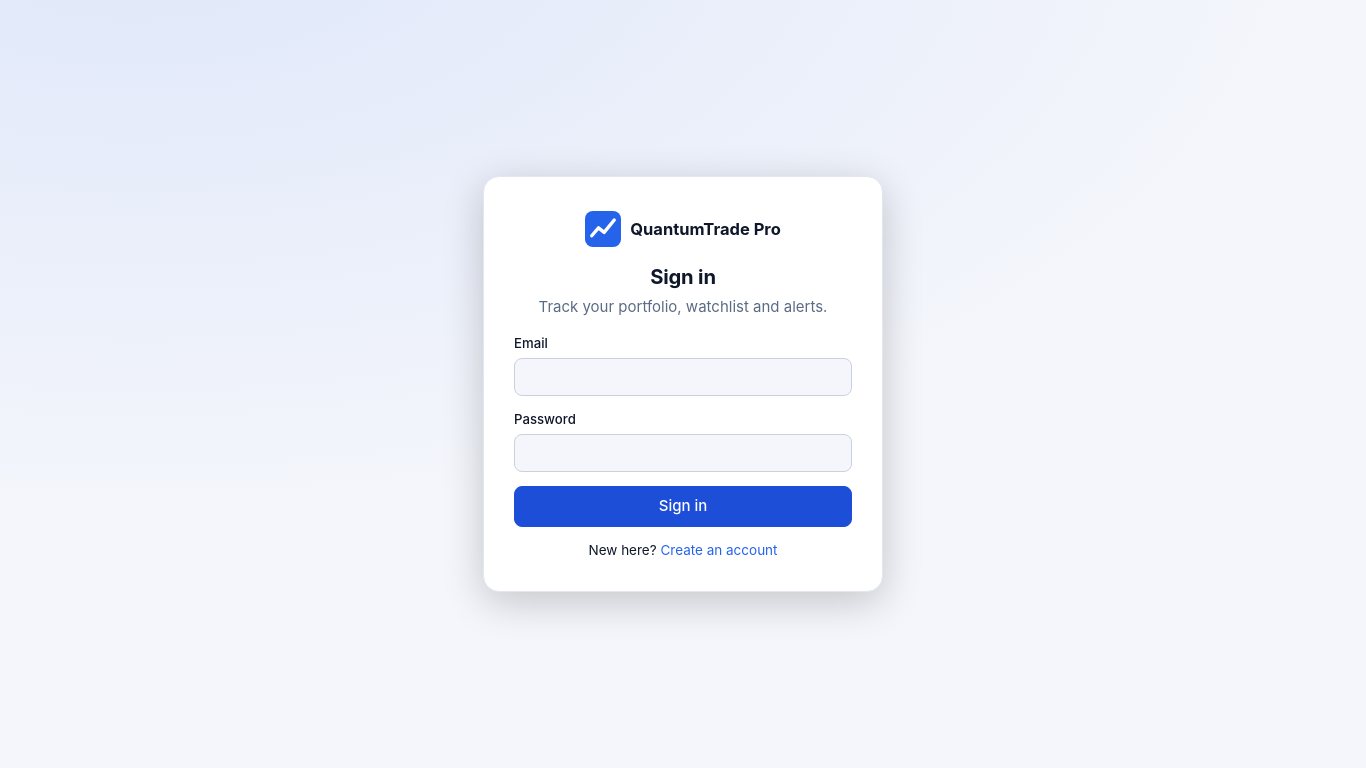
App › logs in and shows the dashboard
Expected: the heading "Sign in" is shown, [650,264,716,289]
In the field labelled "Email": (683,377) [514,358,852,396], type "alice@example.com"
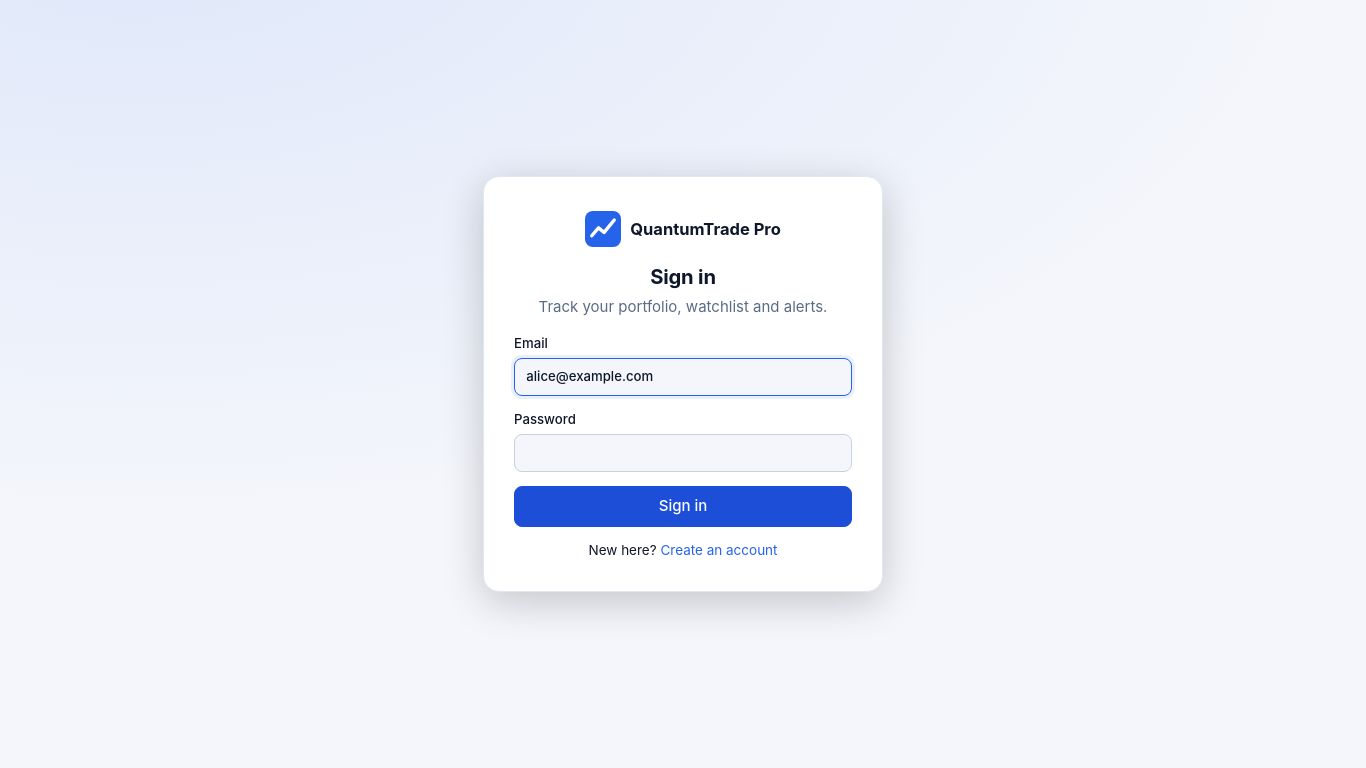
In the password field labelled "Password": (683,453) [514,434,852,472], type "wrong"
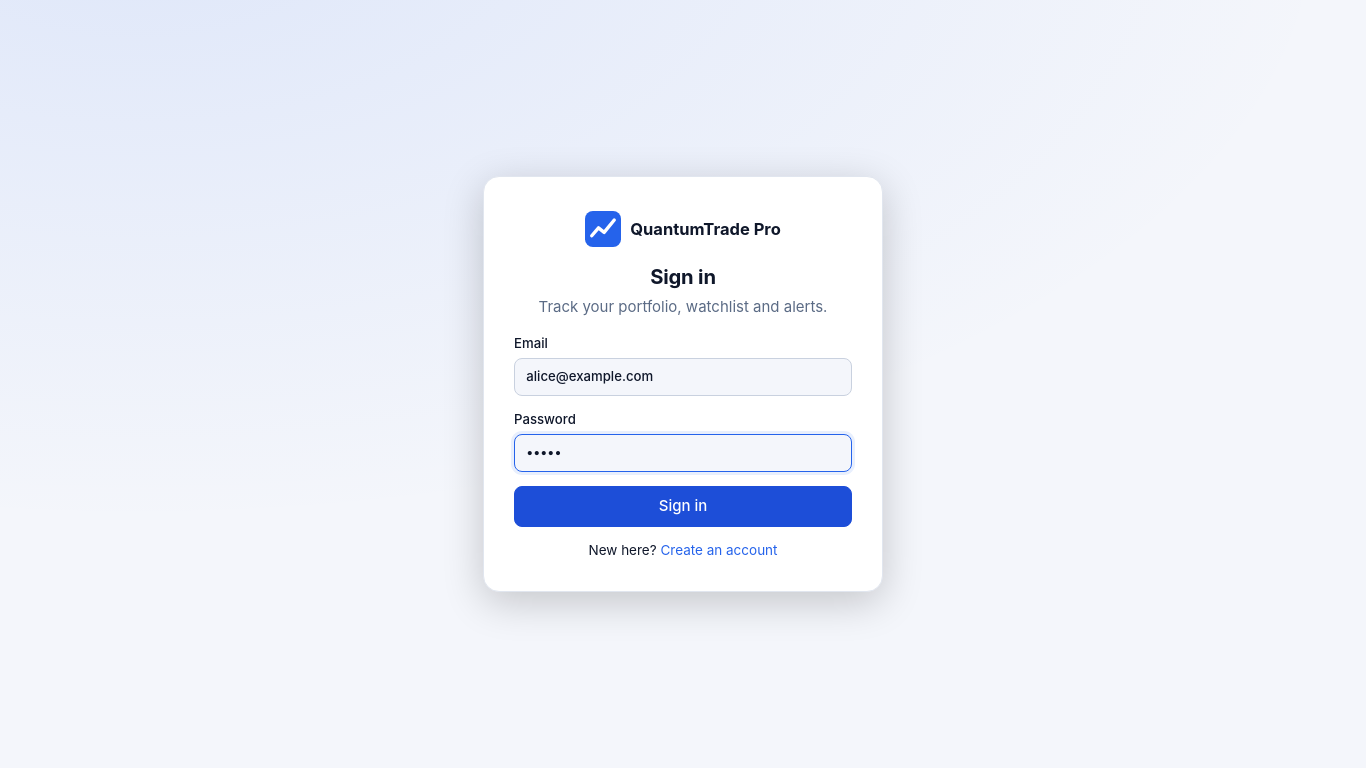
Click the button "Sign in": (683,506) [514,486,852,527]
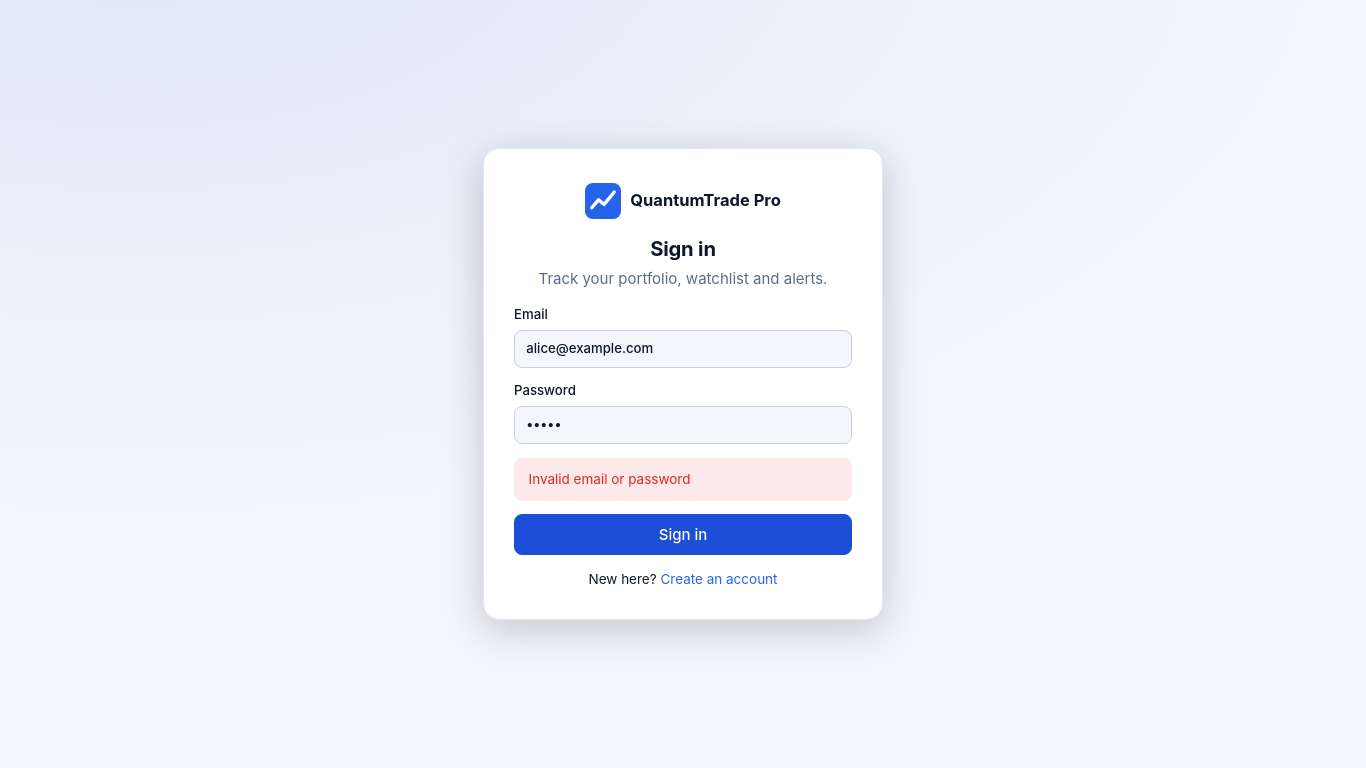
Result: the message reads "Invalid email or password" at [528,471,690,487]
In the password field labelled "Password": (683,425) [514,406,852,444], type "secret123"
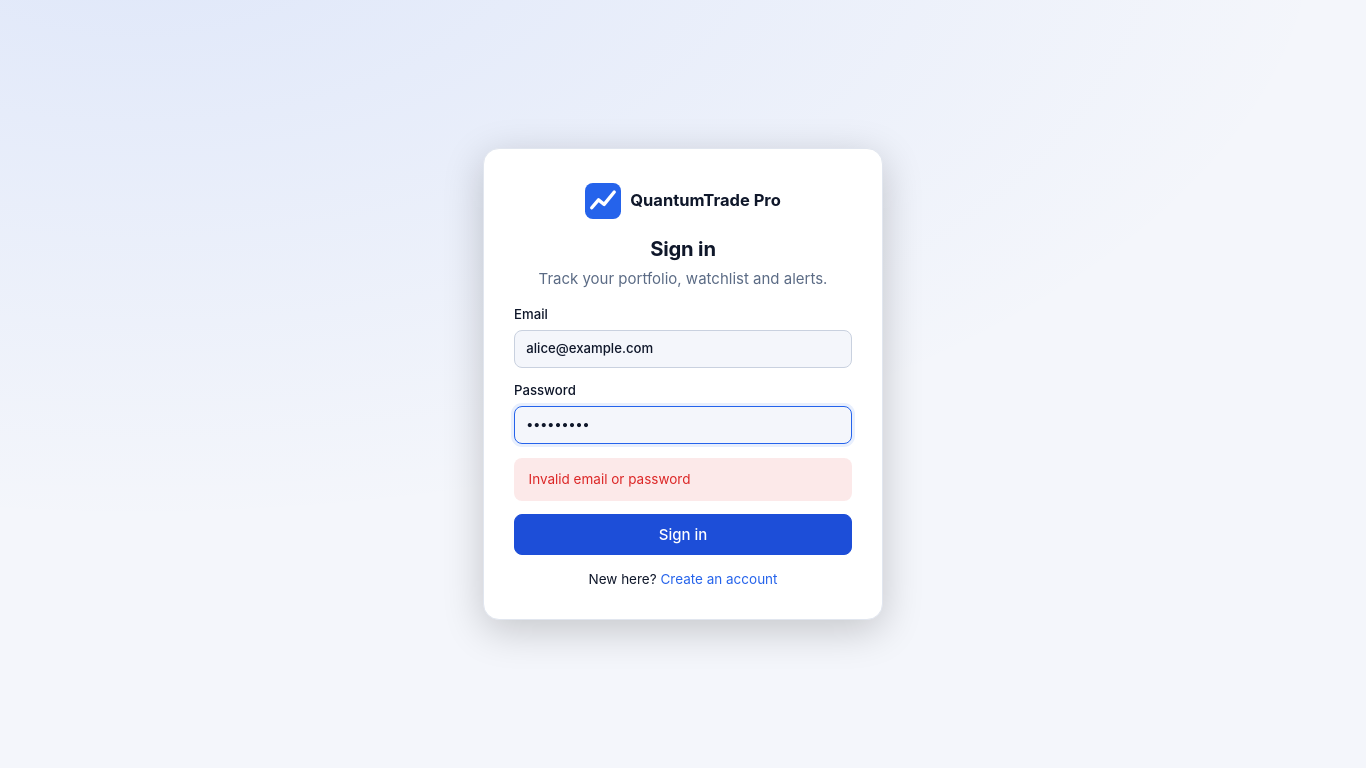
Click the button "Sign in": (683,535) [514,514,852,555]
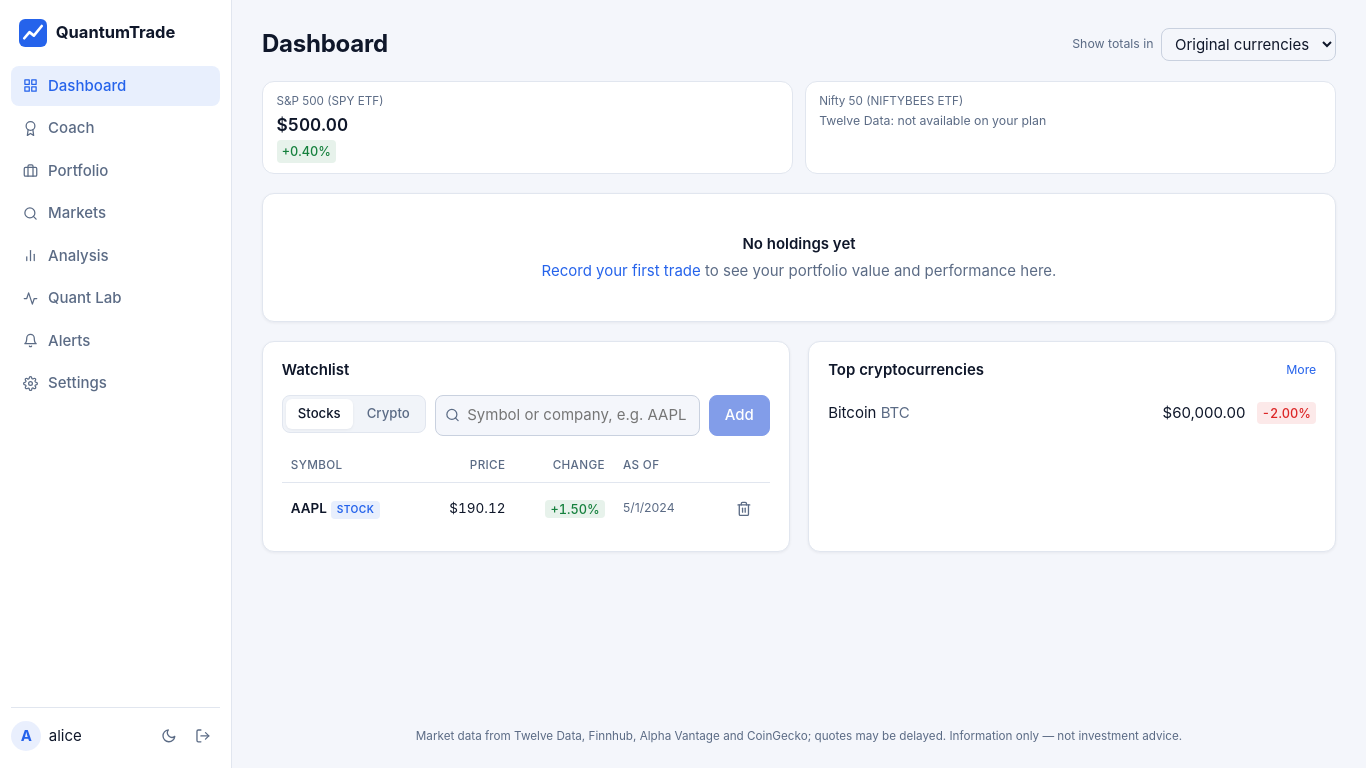
Result: the heading "Dashboard" is shown at [262,26,388,62]
Result: the text "+1.50%" is shown at [545,500,605,518]
Result: the text "Bitcoin" is shown at [828,403,876,422]
